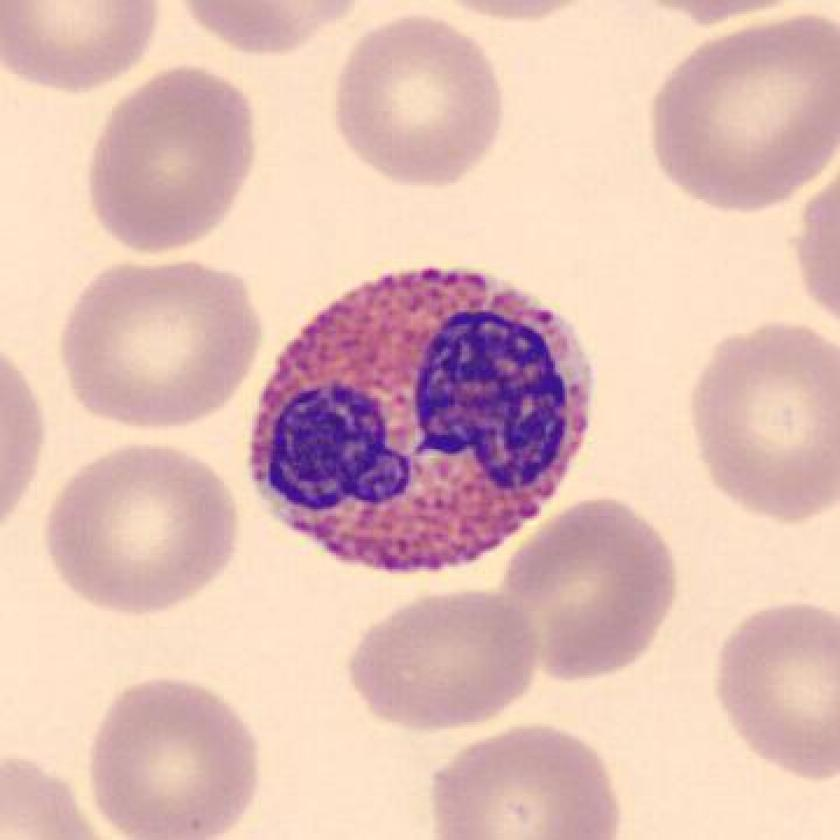eosinophil: (242, 253, 613, 589)
